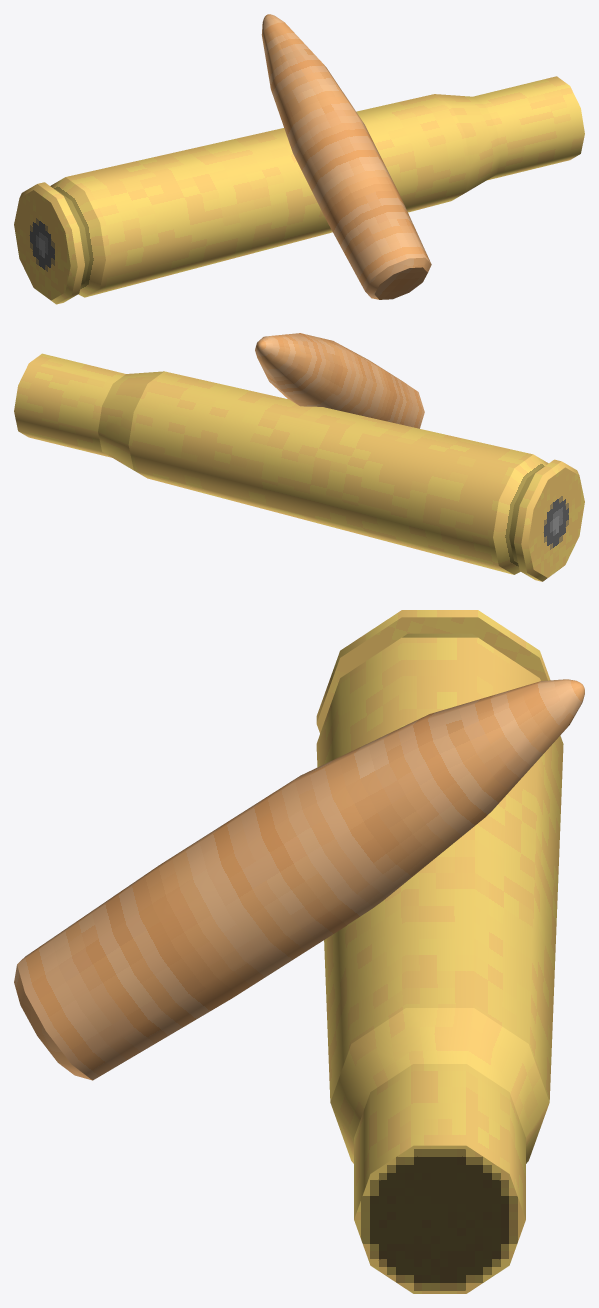
The model's file is ammomaker_PartsBottleneckL.fbx.
3 renders of one model, top to bottom at view 1: azimuth 30°, elevation 25°; view 2: azimuth 150°, elevation 25°; view 3: azimuth 270°, elevation 25°, orthographic. The views are drawn at different scales.
Visible parts, largest first — view 1: ammomaker_PartsBottleneckL; view 2: ammomaker_PartsBottleneckL; view 3: ammomaker_PartsBottleneckL.
Part boxes in pixels (x1,y1,x2,y2): ammomaker_PartsBottleneckL: [14, 14, 584, 304]; ammomaker_PartsBottleneckL: [14, 333, 584, 581]; ammomaker_PartsBottleneckL: [14, 610, 584, 1293].
Bounding box in the file's own units: 9.93 × 3.58 × 4.72.
